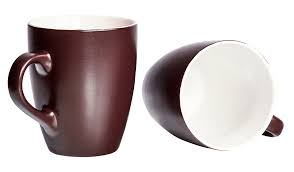cup: (5, 13, 141, 162)
